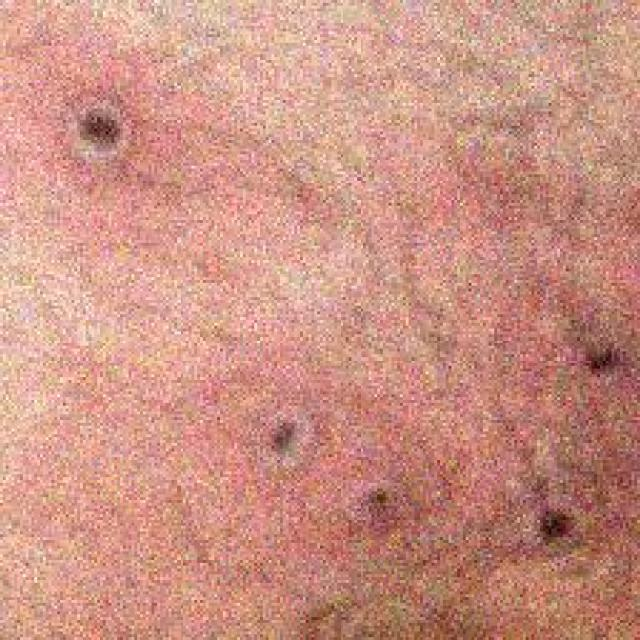monkeypox: (28, 72, 638, 640)
